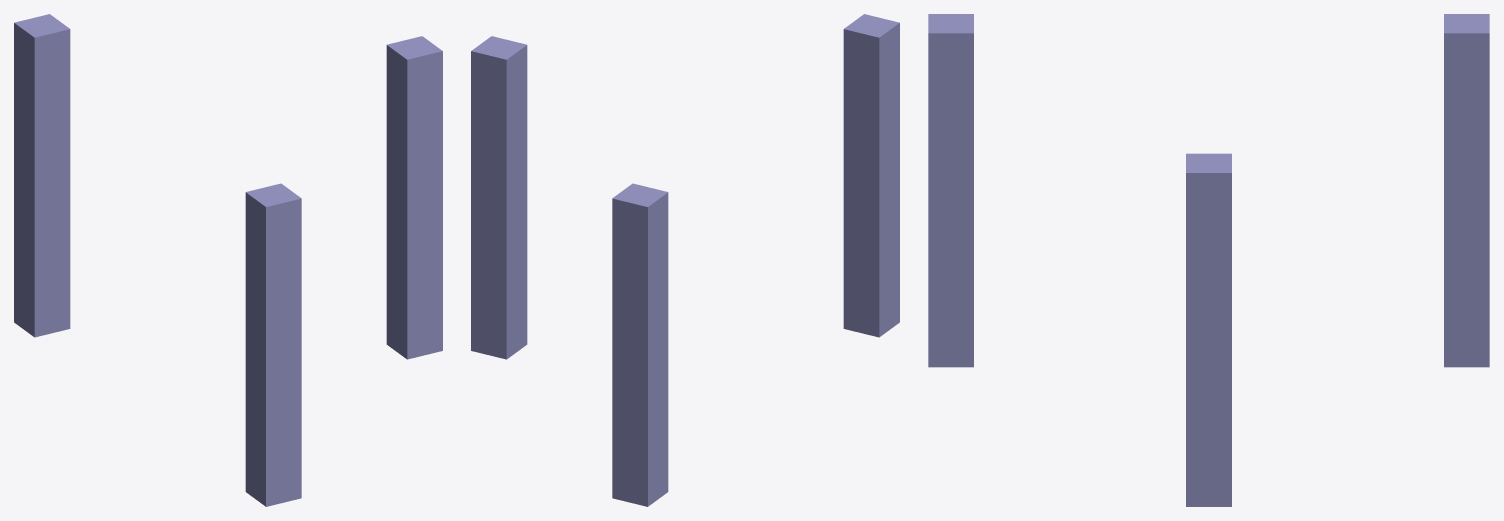
File: QMag1Leg.gltf
The picture shows the model from 3 angles, left to right: view 1: azimuth 30°, elevation 25°; view 2: azimuth 150°, elevation 25°; view 3: azimuth 270°, elevation 25°; orthographic projection. The views are drawn at different scales.
Visible parts, largest first — view 1: logicQMag1Leg_pv0x22303d0, logicQMag1Leg_pv0x2230398, logicQMag1Leg_pv0x2230408; view 2: logicQMag1Leg_pv0x2230398, logicQMag1Leg_pv0x22303d0, logicQMag1Leg_pv0x2230408; view 3: logicQMag1Leg_pv0x2230398, logicQMag1Leg_pv0x22303d0, logicQMag1Leg_pv0x2230408.
Part boxes in pixels (left/top/right/bottom): logicQMag1Leg_pv0x22303d0: left=245, top=183, right=301, bottom=506; logicQMag1Leg_pv0x2230398: left=14, top=14, right=70, bottom=337; logicQMag1Leg_pv0x2230408: left=386, top=36, right=442, bottom=359; logicQMag1Leg_pv0x2230398: left=612, top=183, right=668, bottom=506; logicQMag1Leg_pv0x22303d0: left=843, top=14, right=899, bottom=337; logicQMag1Leg_pv0x2230408: left=471, top=36, right=527, bottom=359; logicQMag1Leg_pv0x2230398: left=1444, top=14, right=1489, bottom=367; logicQMag1Leg_pv0x22303d0: left=928, top=14, right=973, bottom=367; logicQMag1Leg_pv0x2230408: left=1186, top=153, right=1231, bottom=506.
Bounding box in the file's own units: 127 × 124 × 189.
